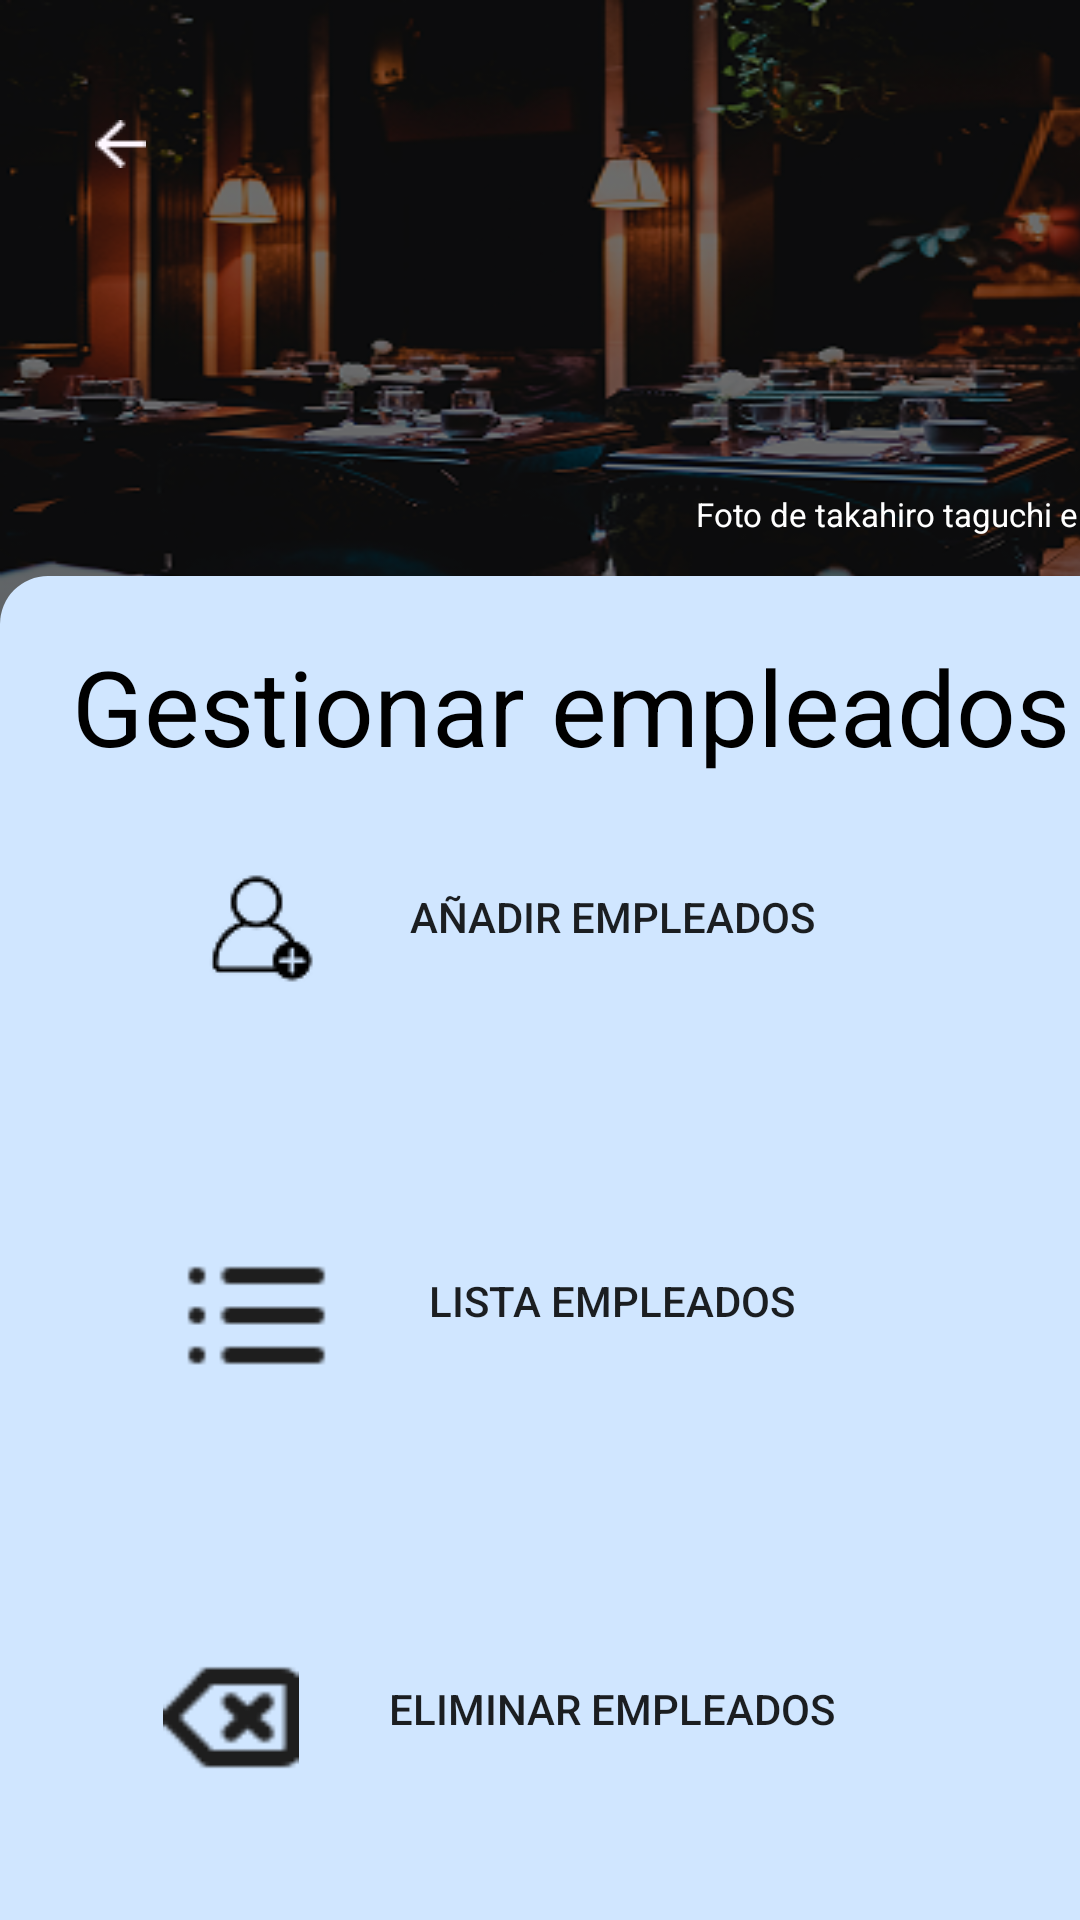

Where to tap for icons on this 1080×1920 app screen, as point (x, y):
anadir empleado: point (262, 928)
